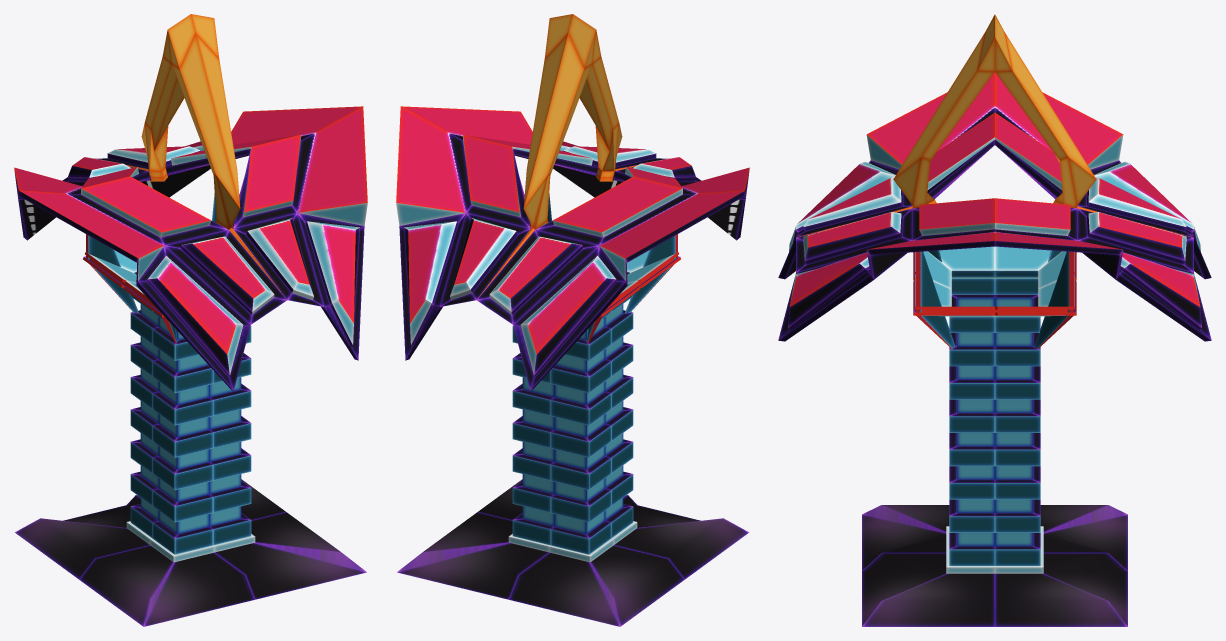
The model's file is THEpipe.fbx.
3 views of the same model, side by side, from view 1: azimuth 30°, elevation 25°; view 2: azimuth 150°, elevation 25°; view 3: azimuth 270°, elevation 25° (orthographic). The views are drawn at different scales.
Parts seen in each view (by area): view 1: Cube; view 2: Cube; view 3: Cube.
Part boxes in pixels (x1=…): Cube: x1=14, y1=14, x2=367, y2=626; Cube: x1=396, y1=14, x2=749, y2=626; Cube: x1=778, y1=14, x2=1211, y2=626.
Size of the model in its own units: 899 by 1343 by 951.
